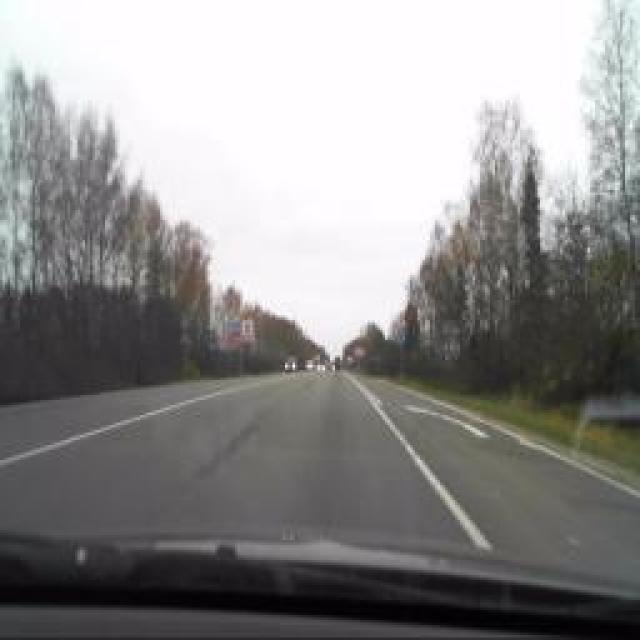sign: (396, 312, 406, 330)
